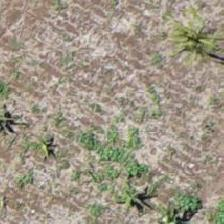coconut_tree: (157, 0, 223, 88)
